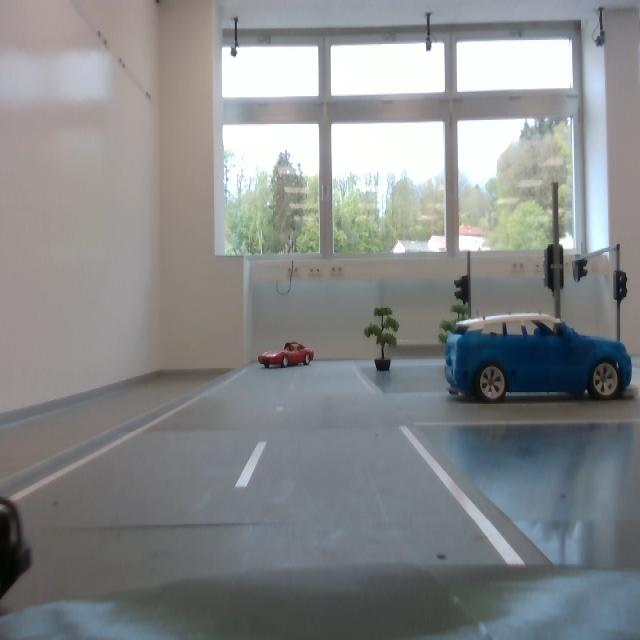car: (441, 307, 636, 406), (259, 337, 315, 375)
potted plant: (361, 302, 405, 360), (438, 303, 471, 373)
traffic light: (543, 245, 566, 295), (452, 272, 473, 314), (612, 271, 629, 308), (571, 258, 589, 289)
